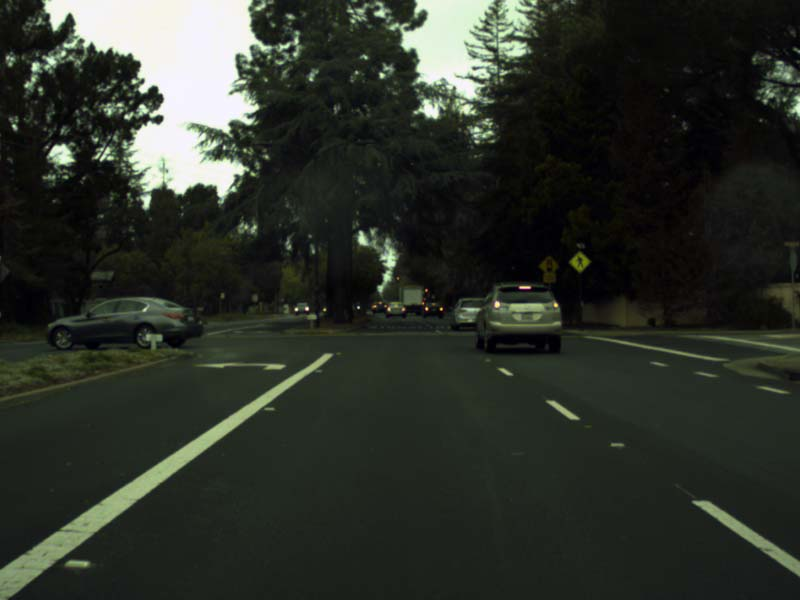Red: (424, 288, 428, 295), (396, 275, 399, 282)
